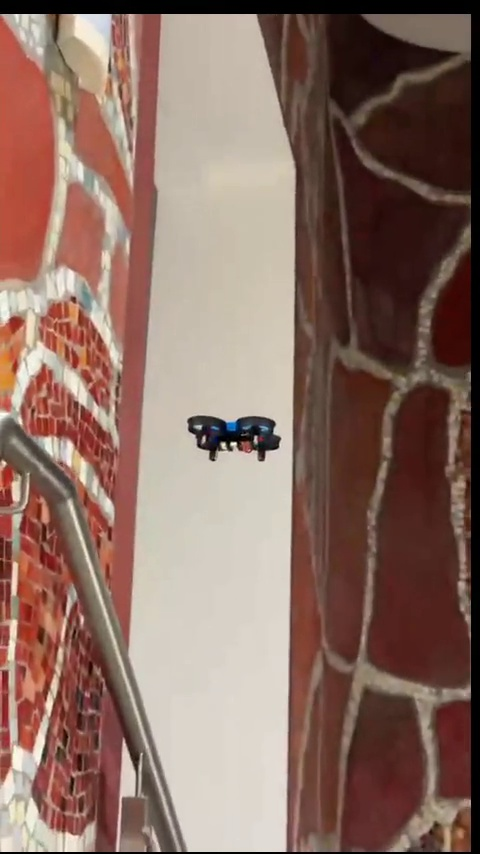drone: (184, 418, 284, 455)
